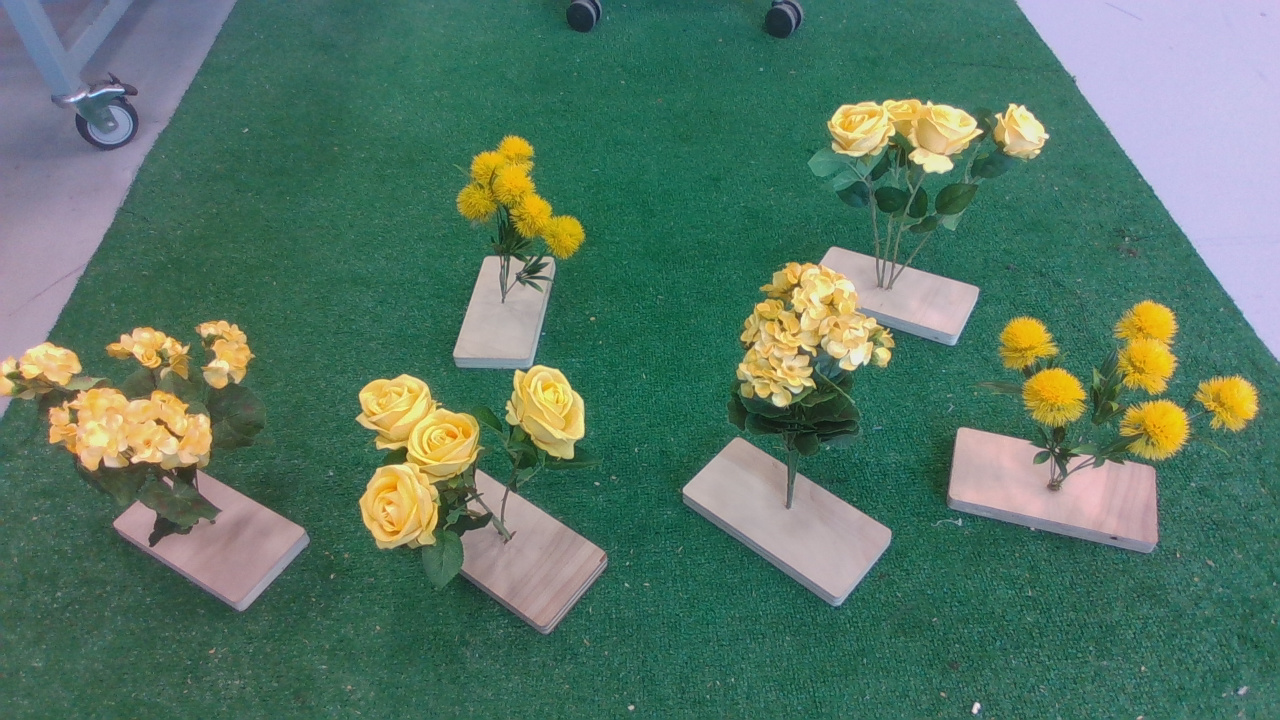dandelion: (983, 297, 1272, 481), (451, 133, 597, 300)
geranium: (2, 314, 286, 553), (728, 263, 905, 464)
rose: (354, 363, 597, 594), (806, 93, 1060, 241)
